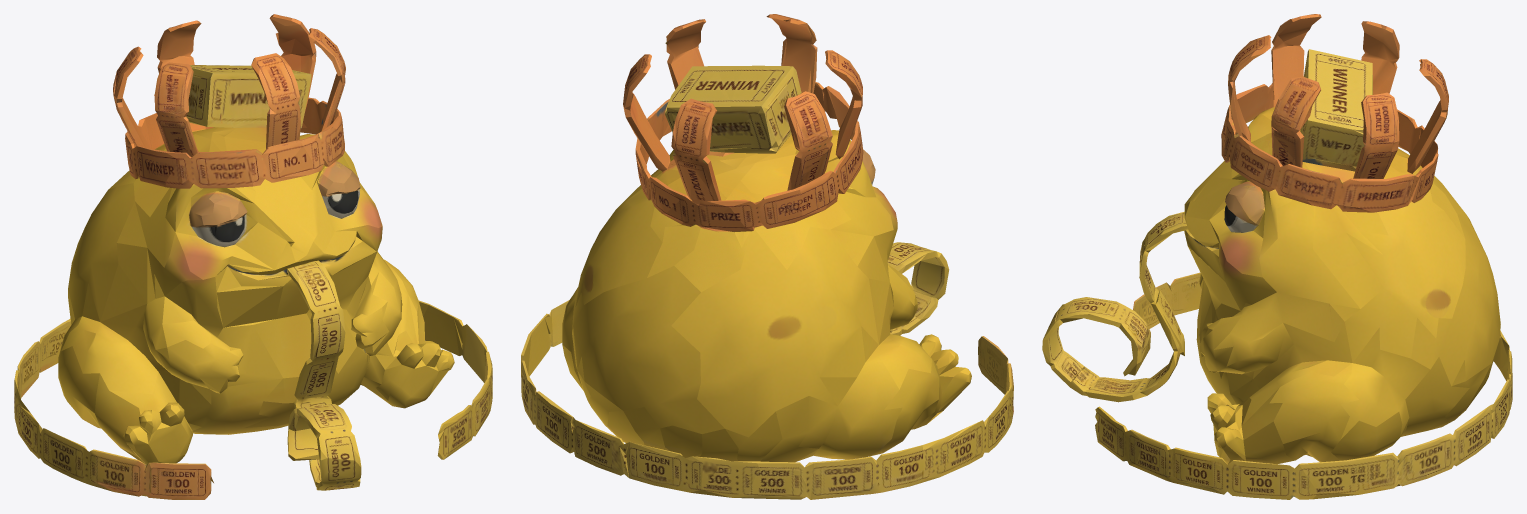
3 renders of one model, left to right at view 1: azimuth 30°, elevation 25°; view 2: azimuth 150°, elevation 25°; view 3: azimuth 270°, elevation 25°, orthographic. The views are drawn at different scales.
Size of the model in its own units: 1.9 by 1.56 by 1.85.
Materials: 1 (1 with a texture image).
